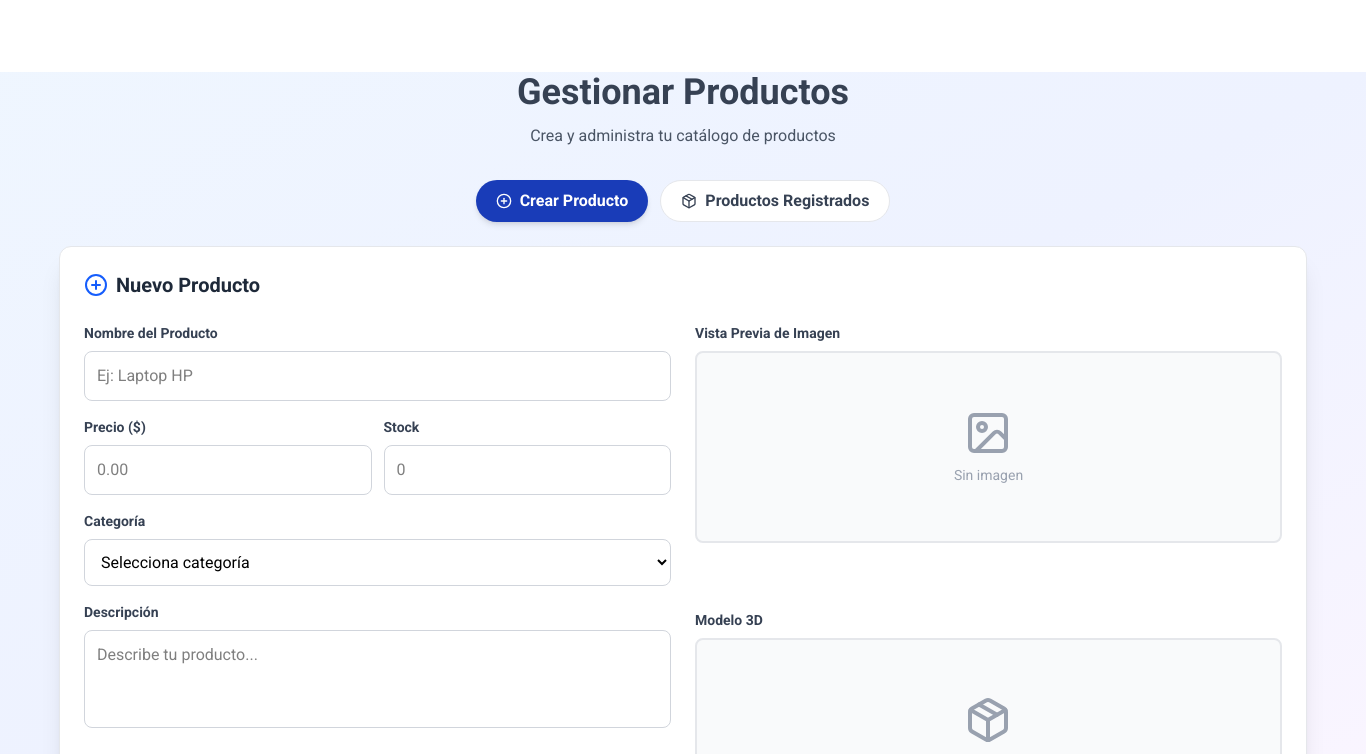
Test: ProductosVendedor › Permite cambiar entre tabs Nuevo Producto y Productos Registrados
Step 1. Click the button "Productos Registrados" → x=775, y=201, box x1=660 y1=180 x2=890 y2=222
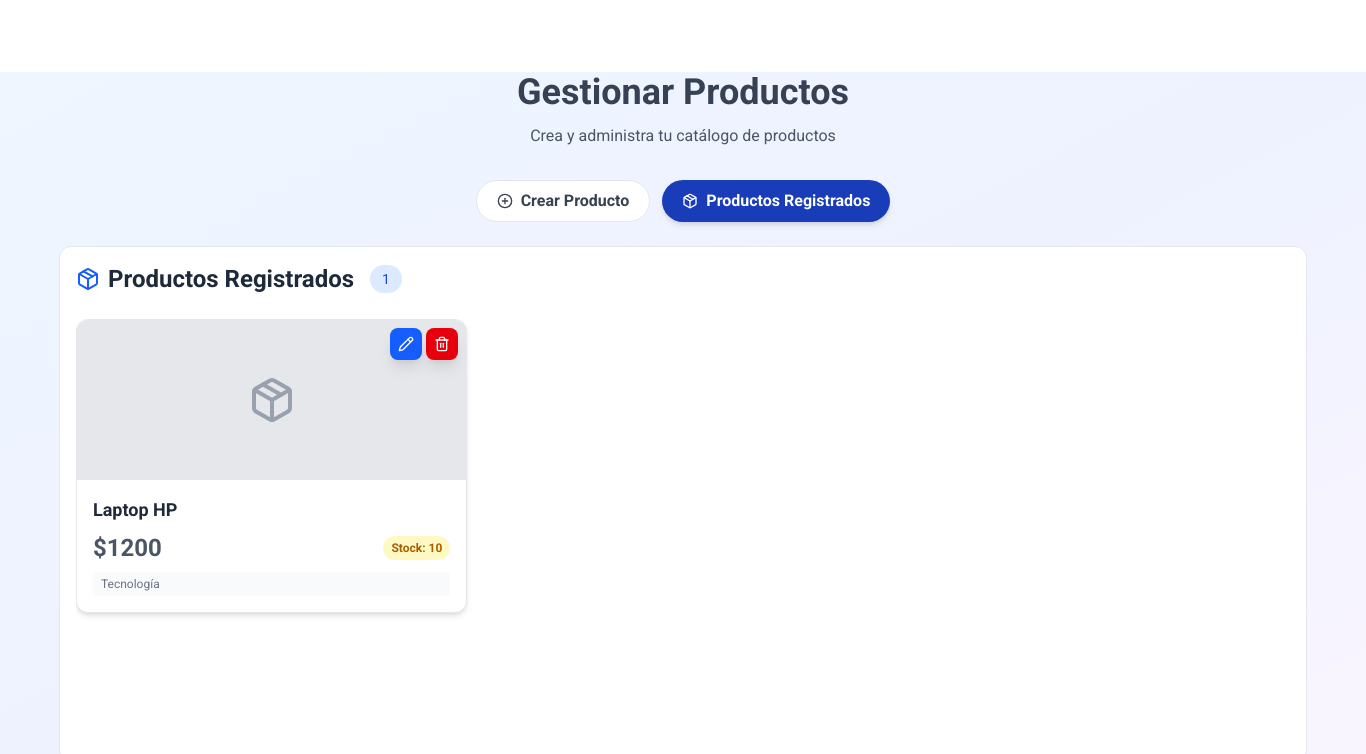
Result: the button "Laptop HP" is shown at x1=93 y1=496 x2=450 y2=524
Step 2. Click the button "Crear Producto" → x=563, y=201, box x1=476 y1=180 x2=650 y2=222
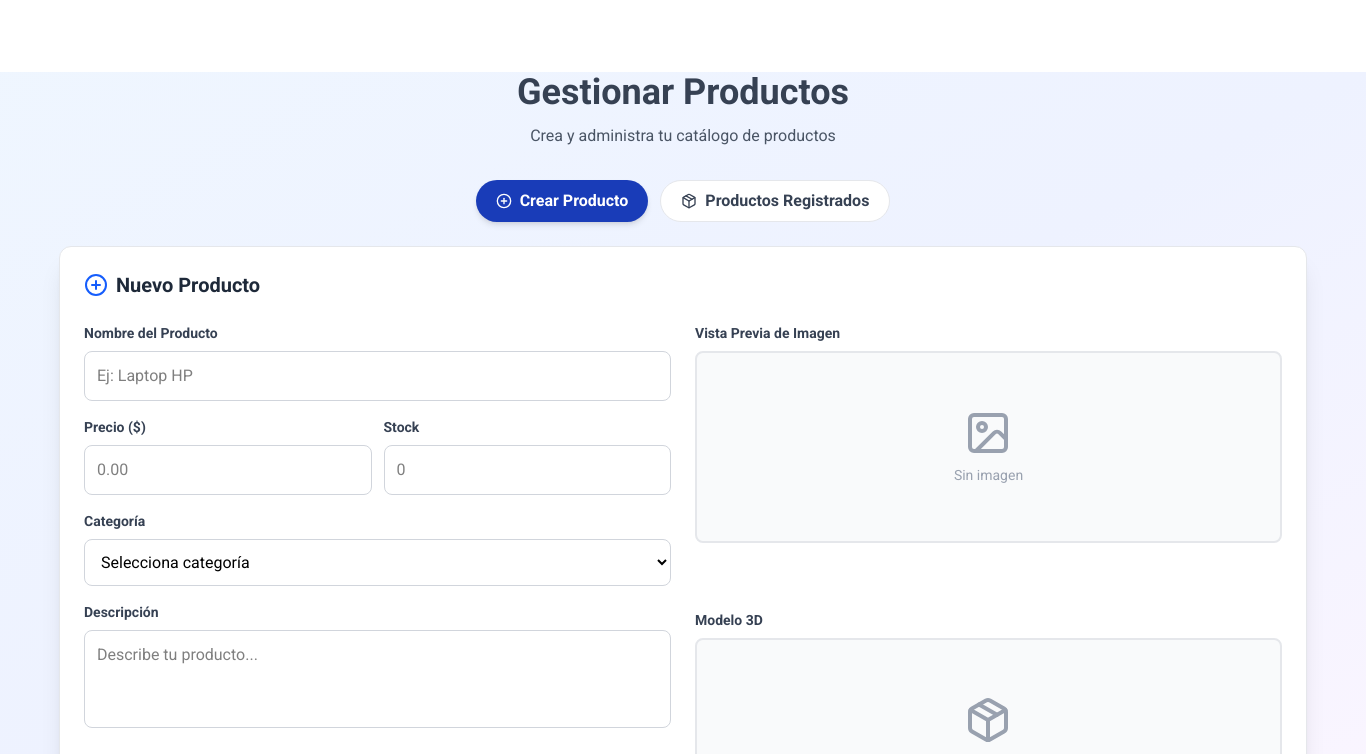
Result: the field with placeholder "Ej: Laptop HP" is shown at x1=84 y1=351 x2=671 y2=401
